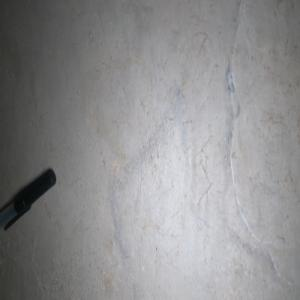Pen: (0, 168, 56, 230)
